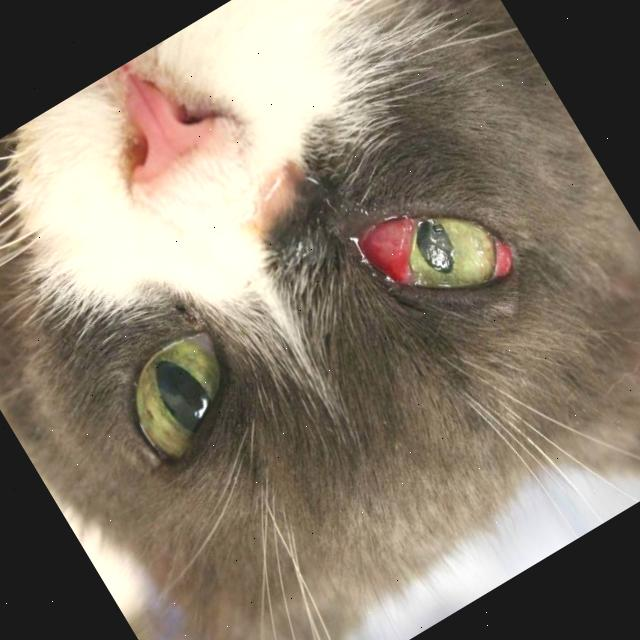cat-eye: (316, 146, 548, 372)
cat-eye-normal: (55, 274, 306, 524)
